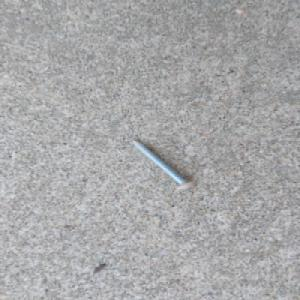Screw: (127, 137, 199, 191)
